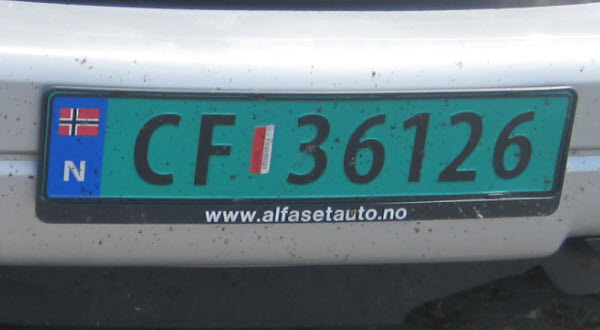license_plate: (43, 90, 567, 203)
